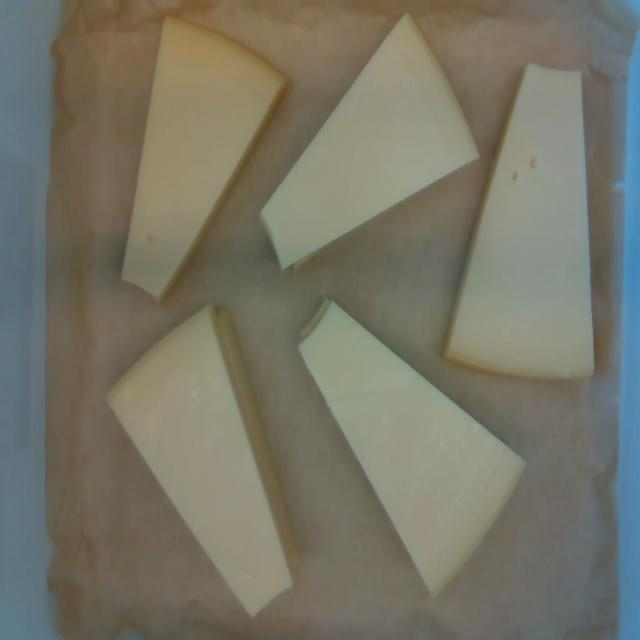Cheese: (299, 301, 523, 589), (110, 308, 290, 613), (262, 16, 477, 267), (447, 65, 592, 376), (123, 20, 283, 297)
